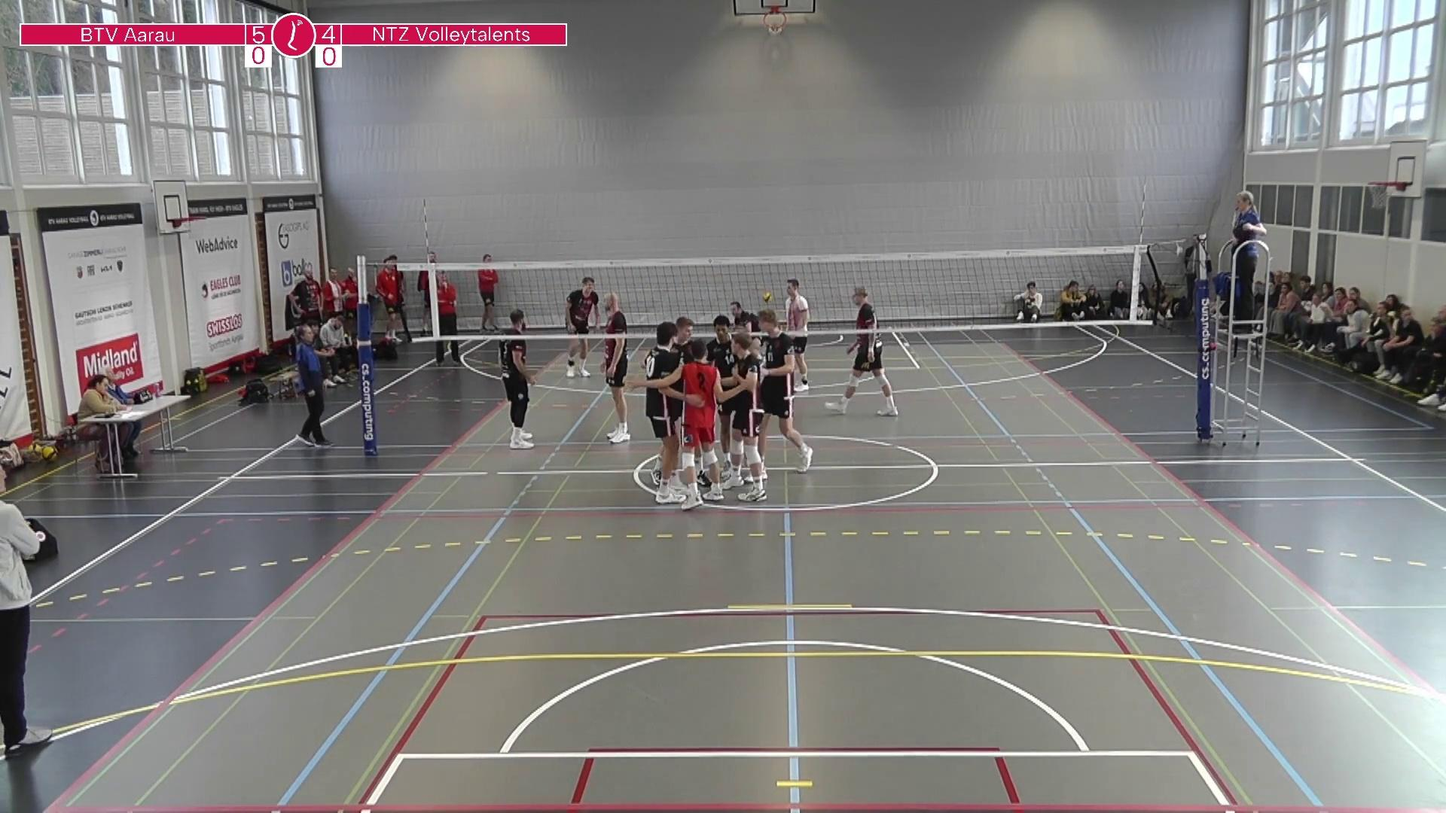Player: (746, 312, 813, 473), (638, 319, 693, 504), (708, 324, 763, 498), (832, 287, 898, 416), (675, 336, 721, 504), (602, 295, 635, 444), (499, 309, 533, 449), (564, 277, 599, 379), (785, 278, 812, 391)
